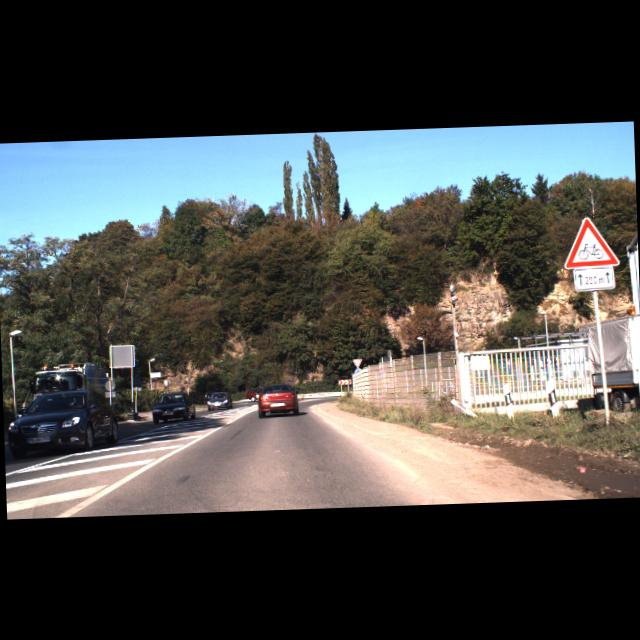danger: (562, 215, 620, 268)
other: (352, 359, 362, 369)
